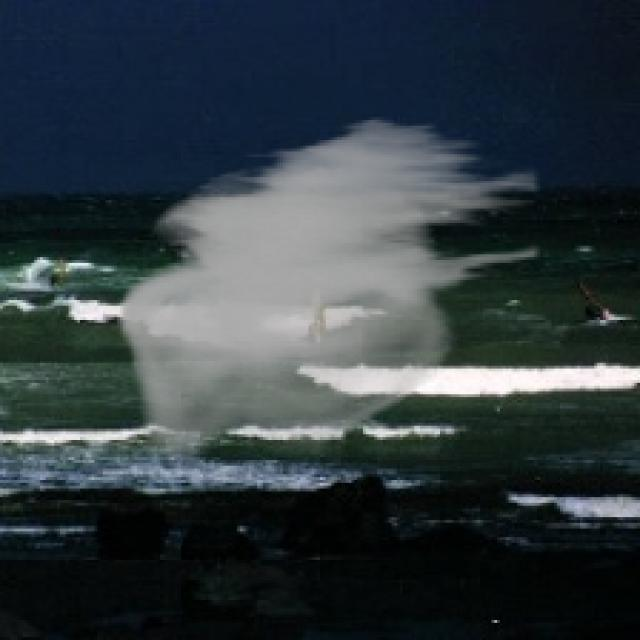smoke: (117, 114, 540, 460)
